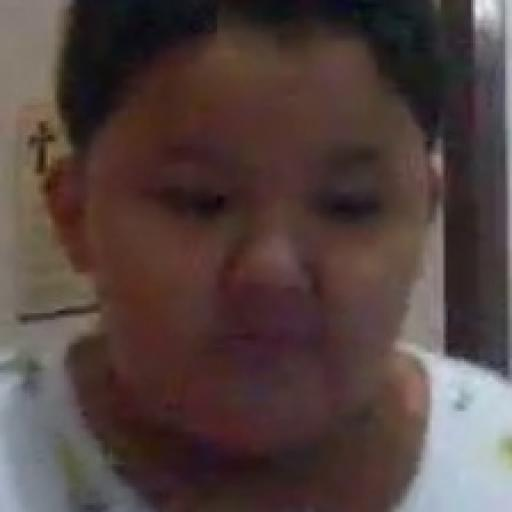Autism: (36, 15, 440, 458)
